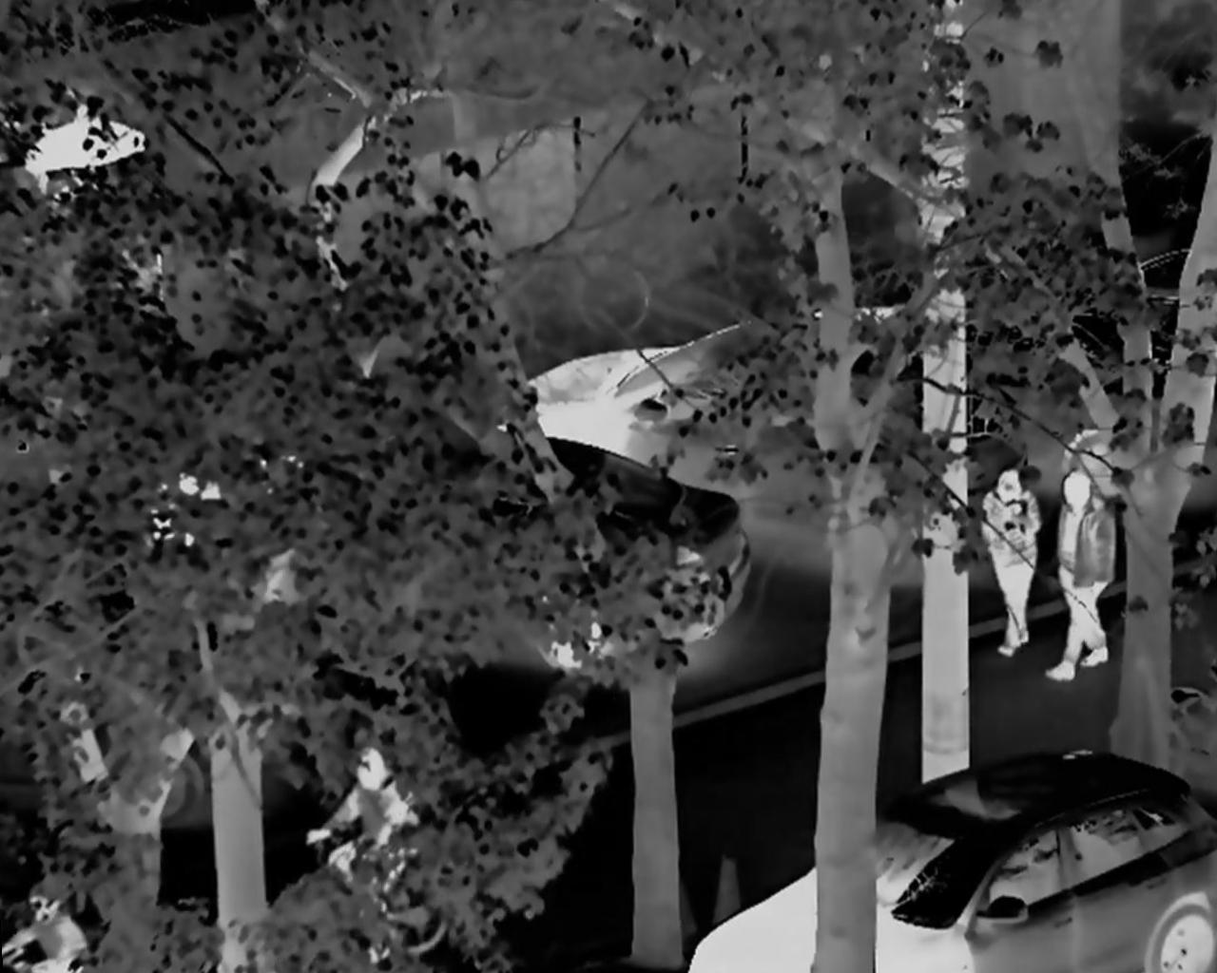person: (306, 751, 415, 927), (1048, 470, 1117, 684), (970, 460, 1040, 663)
